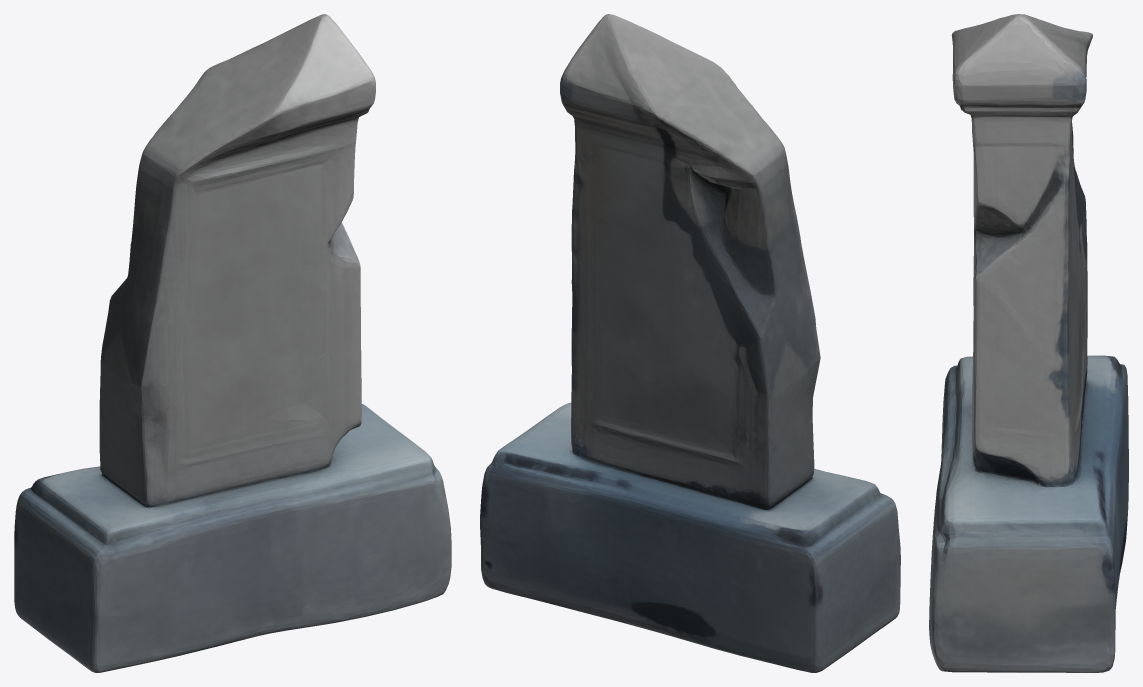
Rendered from bia.glb.
3 views of the same model, side by side, from view 1: azimuth 30°, elevation 25°; view 2: azimuth 150°, elevation 25°; view 3: azimuth 270°, elevation 25° (orthographic). The views are drawn at different scales.
Parts seen in each view (by area): view 1: world; view 2: world; view 3: world.
Part boxes in pixels (<box>): world: <box>14,14,451,672</box>; world: <box>480,14,900,672</box>; world: <box>929,14,1128,672</box>.
Size of the model in its own units: 0.6454 by 1 by 0.2954.
Materials: 1 (1 with a texture image).
